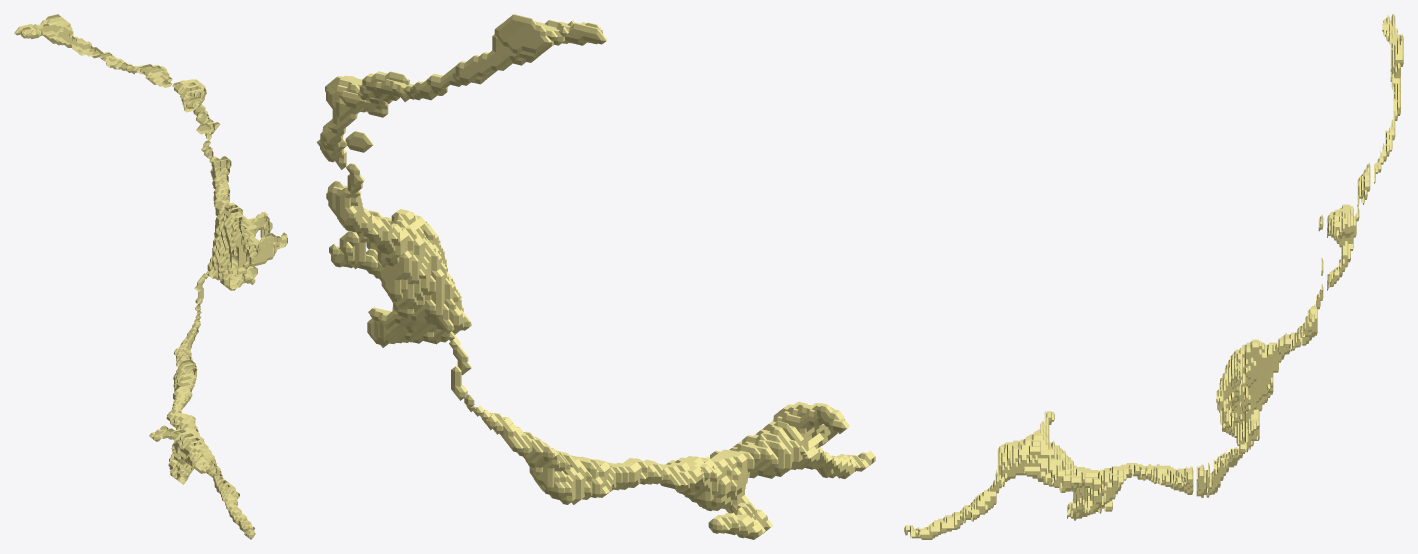
File: SVV_ADAR.gltf
3 renders of one model, left to right at view 1: azimuth 30°, elevation 25°; view 2: azimuth 150°, elevation 25°; view 3: azimuth 270°, elevation 25°, orthographic. The views are drawn at different scales.
Parts seen in each view (by area): view 1: ADAR; view 2: ADAR; view 3: ADAR.
Part boxes in pixels (box(x1,y1,x2,y2)): ADAR: box(14, 14, 287, 539); ADAR: box(316, 14, 875, 539); ADAR: box(904, 14, 1403, 539).
Bounding box in the file's own units: 43555 × 75814 × 69295.
